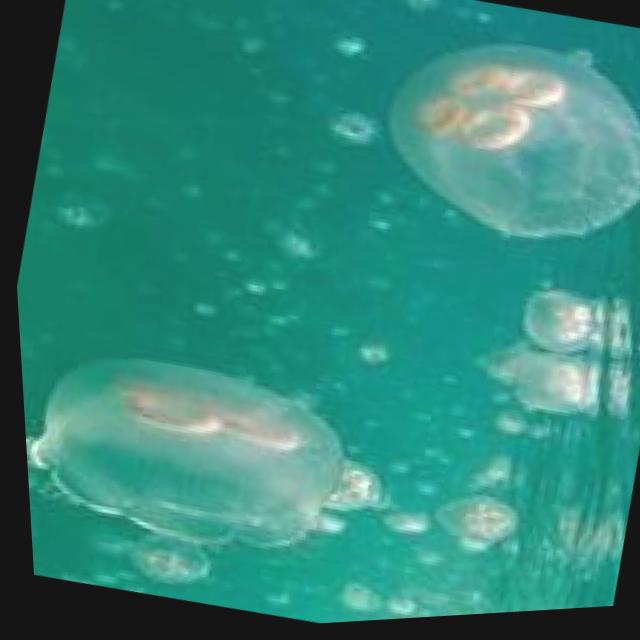Box-jellyfish: (16, 320, 406, 598)
Moon-jellyfish: (356, 10, 640, 283)
